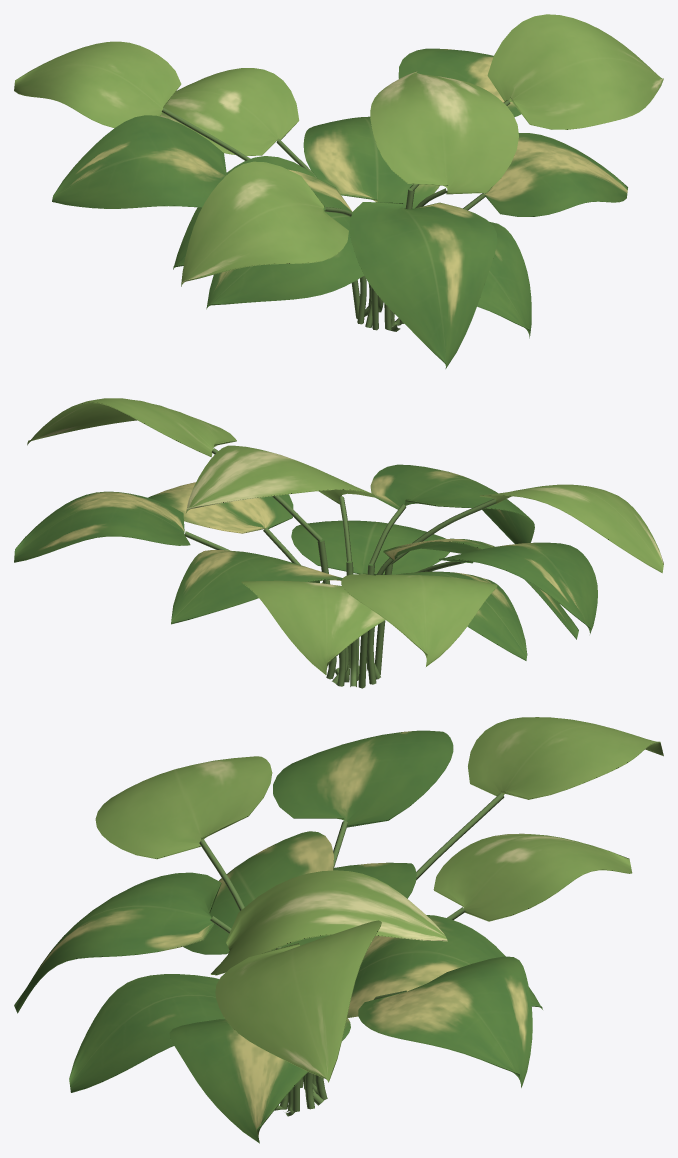
File: pothos-stage-3.glb
3 views of the same model, one above another, from view 1: azimuth 30°, elevation 25°; view 2: azimuth 150°, elevation 25°; view 3: azimuth 270°, elevation 25° (orthographic). The views are drawn at different scales.
Parts seen in each view (by area): view 1: Leaf_5, Leaf_11, Leaf_8, Leaf_10, Leaf_7, Leaf_12, Leaf_9, Leaf_3, Leaf_2, Leaf_1, Leaf_0, Leaf_6 (+2 smaller); view 2: Leaf_12, Leaf_6, Leaf_9, Leaf_8, Leaf_1, Leaf_7, Leaf_5, PlantBranches, Leaf_0, Leaf_10, Leaf_11, Leaf_3 (+2 smaller); view 3: Leaf_11, Leaf_6, Leaf_7, Leaf_10, Leaf_8, Leaf_12, Leaf_9, Leaf_5, Leaf_0, Leaf_3, Leaf_1, Leaf_2 (+2 smaller).
Part boxes in pixels (bbox=[...]): Leaf_5: bbox=[349, 202, 497, 368]; Leaf_11: bbox=[487, 14, 663, 129]; Leaf_8: bbox=[370, 71, 518, 194]; Leaf_10: bbox=[181, 161, 348, 286]; Leaf_7: bbox=[52, 115, 226, 208]; Leaf_12: bbox=[14, 41, 181, 128]; Leaf_9: bbox=[160, 68, 299, 155]; Leaf_3: bbox=[484, 133, 627, 216]; Leaf_2: bbox=[206, 169, 364, 309]; Leaf_1: bbox=[303, 116, 439, 208]; Leaf_0: bbox=[477, 221, 531, 338]; Leaf_6: bbox=[398, 48, 521, 117]; Leaf_12: bbox=[341, 574, 497, 666]; Leaf_6: bbox=[14, 491, 190, 562]; Leaf_9: bbox=[241, 580, 385, 675]; Leaf_8: bbox=[186, 445, 374, 512]; Leaf_1: bbox=[171, 550, 342, 624]; Leaf_7: bbox=[439, 542, 597, 633]; Leaf_5: bbox=[370, 464, 534, 543]; PlantBranches: bbox=[184, 448, 496, 688]; Leaf_0: bbox=[291, 520, 449, 575]; Leaf_10: bbox=[479, 484, 663, 573]; Leaf_11: bbox=[27, 398, 236, 457]; Leaf_3: bbox=[148, 482, 293, 533]; Leaf_11: bbox=[215, 920, 381, 1082]; Leaf_6: bbox=[358, 956, 532, 1087]; Leaf_7: bbox=[273, 730, 453, 827]; Leaf_10: bbox=[95, 756, 272, 859]; Leaf_8: bbox=[211, 870, 447, 975]; Leaf_12: bbox=[468, 717, 663, 799]; Leaf_9: bbox=[433, 833, 632, 921]; Leaf_5: bbox=[14, 872, 221, 1013]; Leaf_0: bbox=[69, 974, 224, 1092]; Leaf_3: bbox=[169, 1017, 350, 1143]; Leaf_1: bbox=[347, 915, 542, 1017]; Leaf_2: bbox=[183, 831, 333, 954].
Bounding box in the file's own units: 2.3 × 0.9254 × 1.85.
Materials: 3 (2 with a texture image).
